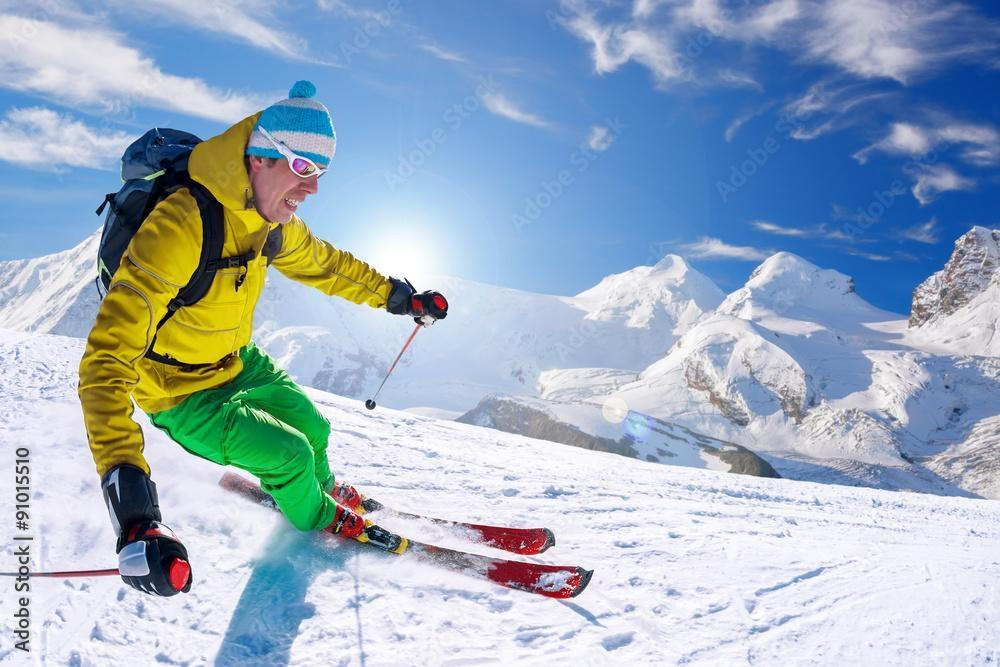Skis: (288, 442, 594, 614)
